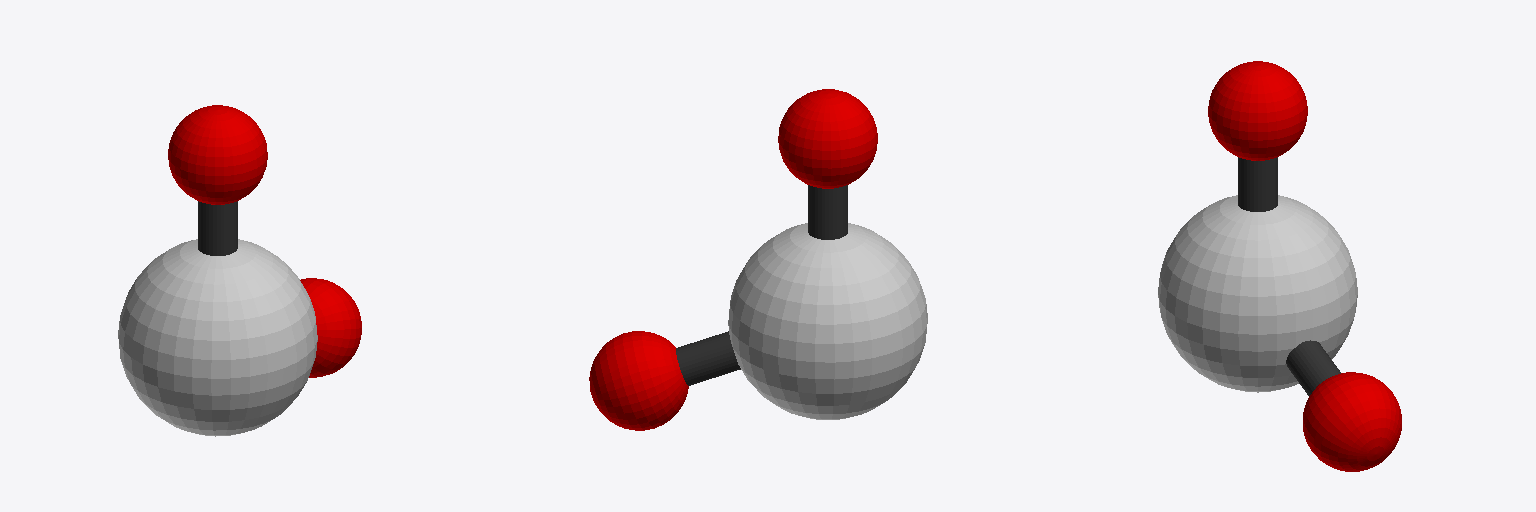
The model's file is molecula_agua.obj.
3 renders of one model, left to right at view 1: azimuth 30°, elevation 25°; view 2: azimuth 150°, elevation 25°; view 3: azimuth 270°, elevation 25°, orthographic.
Visible parts, largest first — view 1: Sphere_Sphere.004, hydrogen_Sphere, hydrogen.002_Sphere.002, bond_Cylinder; view 2: Sphere_Sphere.004, hydrogen_Sphere, hydrogen.002_Sphere.002, bond.002_Cylinder.002, bond_Cylinder; view 3: Sphere_Sphere.004, hydrogen_Sphere, hydrogen.002_Sphere.002, bond_Cylinder, bond.002_Cylinder.002.
Boxes of the visible parts, box(x1,y1,x2,y2) form: Sphere_Sphere.004: box(118, 239, 317, 436); hydrogen_Sphere: box(168, 105, 267, 204); hydrogen.002_Sphere.002: box(300, 278, 361, 377); bond_Cylinder: box(198, 201, 237, 255); Sphere_Sphere.004: box(728, 223, 927, 419); hydrogen_Sphere: box(778, 89, 877, 188); hydrogen.002_Sphere.002: box(589, 331, 688, 430); bond.002_Cylinder.002: box(676, 331, 740, 385); bond_Cylinder: box(808, 185, 847, 239); Sphere_Sphere.004: box(1158, 195, 1357, 392); hydrogen_Sphere: box(1208, 61, 1307, 160); hydrogen.002_Sphere.002: box(1303, 372, 1401, 471); bond_Cylinder: box(1238, 157, 1277, 211); bond.002_Cylinder.002: box(1286, 340, 1340, 395).
Bounding box in the file's own units: 2.51 × 2.93 × 1.95.